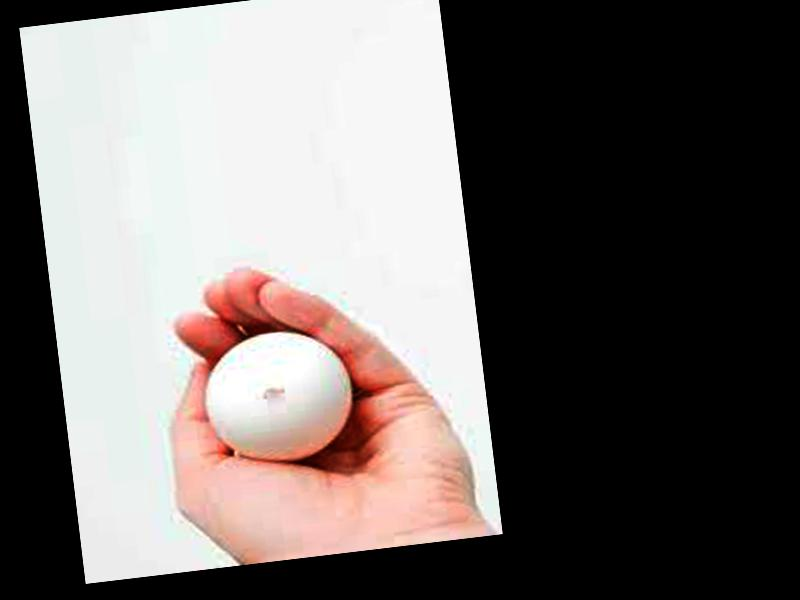Eggs: (202, 324, 356, 467)
